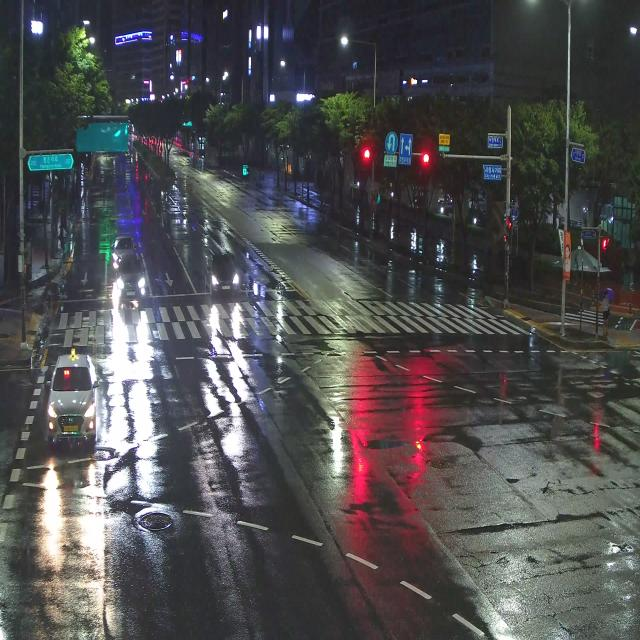Car: (42, 334, 104, 458), (194, 242, 244, 300), (114, 252, 150, 306), (109, 225, 138, 265)
